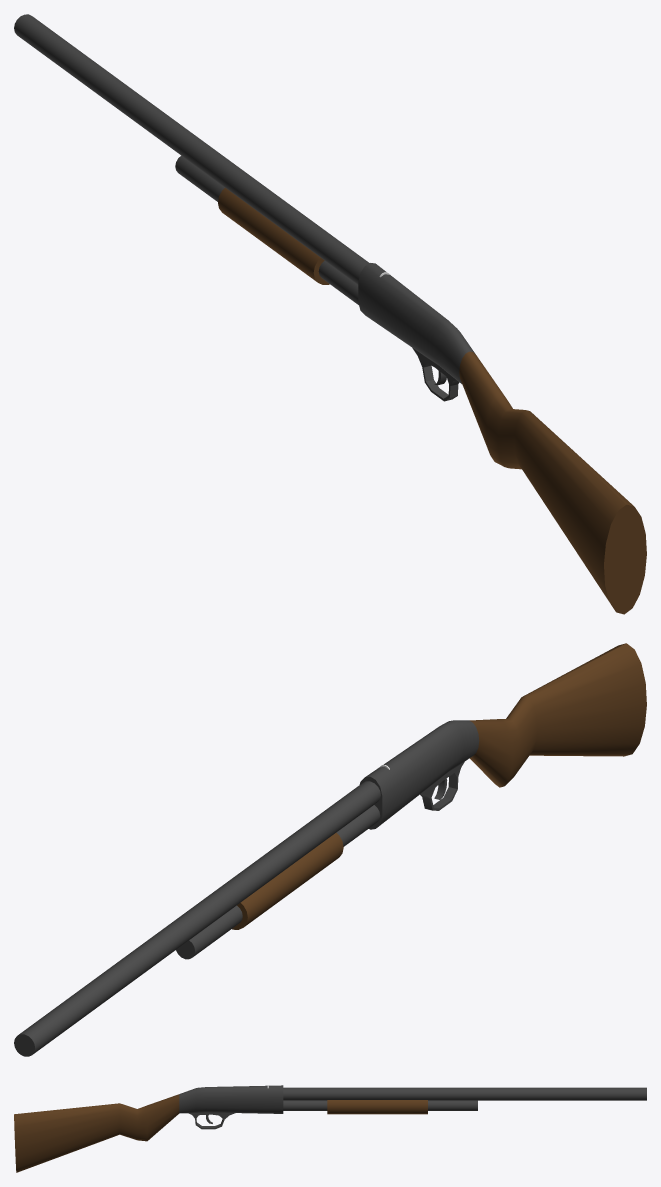
Rendered from shotgun.glb.
The picture shows the model from 3 angles, top to bottom: view 1: azimuth 30°, elevation 25°; view 2: azimuth 150°, elevation 25°; view 3: azimuth 270°, elevation 25°; orthographic projection. The views are drawn at different scales.
Parts seen in each view (by area): view 1: Cylinder.002, Cylinder, Pump, Cylinder.001, Plane; view 2: Cylinder.002, Cylinder, Pump, Cylinder.001, Plane; view 3: Cylinder.002, Cylinder, Pump, Cylinder.001, Plane.
Part boxes in pixels (x1,y1,x2,y2): Cylinder.002: [358, 263, 646, 614]; Cylinder: [14, 14, 369, 284]; Pump: [218, 188, 329, 284]; Cylinder.001: [175, 155, 358, 304]; Plane: [412, 348, 459, 401]; Cylinder.002: [359, 643, 646, 829]; Cylinder: [14, 781, 380, 1056]; Pump: [232, 832, 343, 929]; Cylinder.001: [176, 805, 380, 959]; Plane: [420, 762, 464, 810]; Cylinder.002: [14, 1085, 283, 1172]; Cylinder: [283, 1087, 646, 1100]; Pump: [327, 1100, 427, 1114]; Cylinder.001: [283, 1100, 477, 1110]; Plane: [189, 1112, 235, 1129].
Bounding box in the file's own units: 0.0556 × 0.2055 × 1.35.
